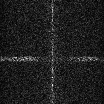wifi: (1, 56, 104, 61)
